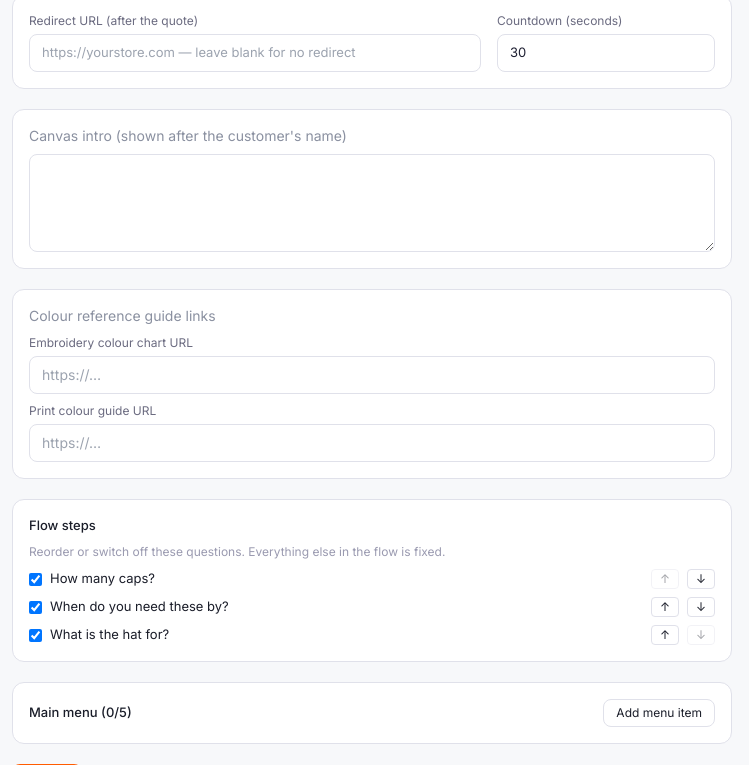
Scenario: BrandingView › blocks a 6th menu item
The width and height of the screenshot is (749, 765).
(page scrolled)
Click the button "Add menu item" at (659, 713), box [603,699,715,727]
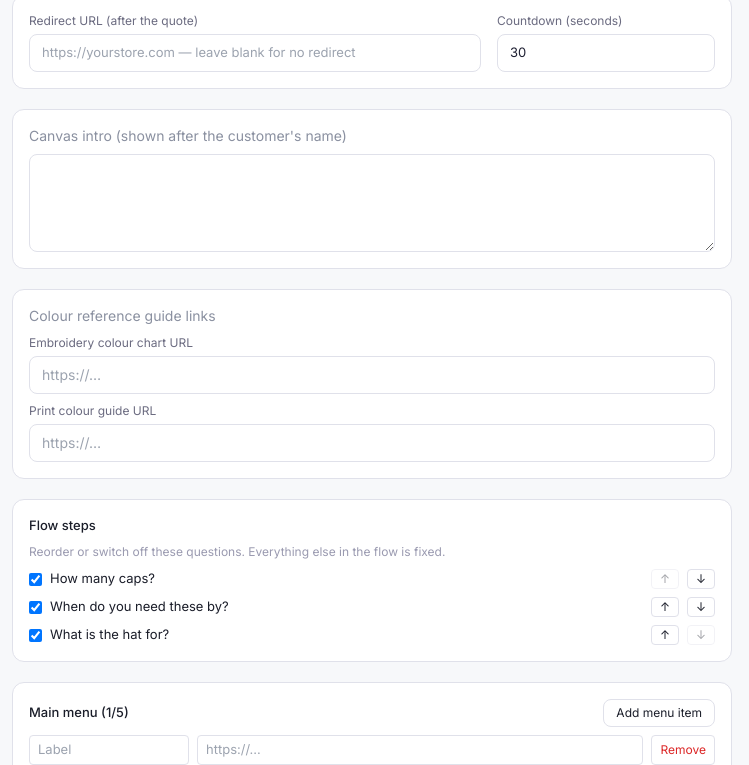
Click the button "Add menu item" at (659, 713), box [603,699,715,727]
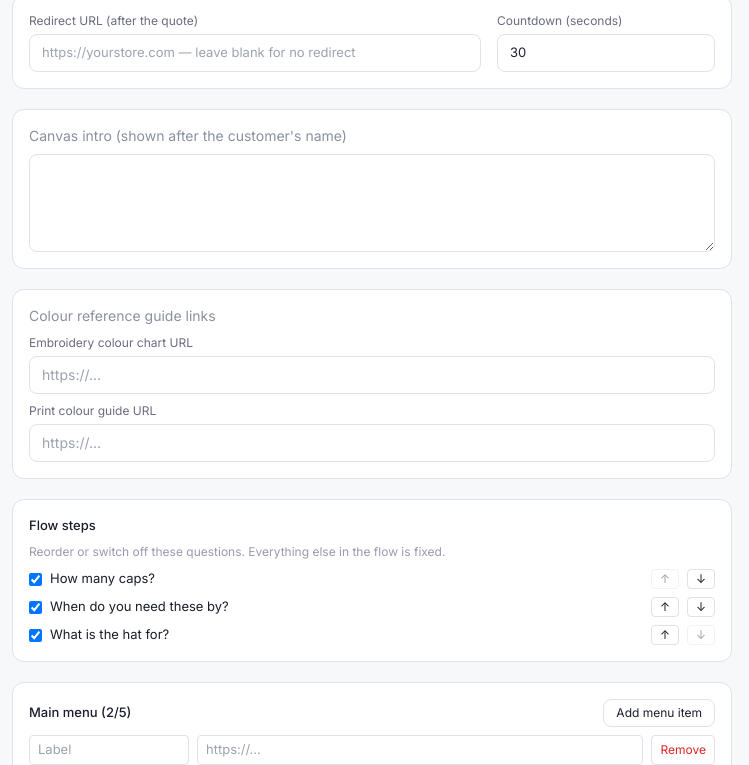
Click the button "Add menu item" at (659, 713), box [603,699,715,727]
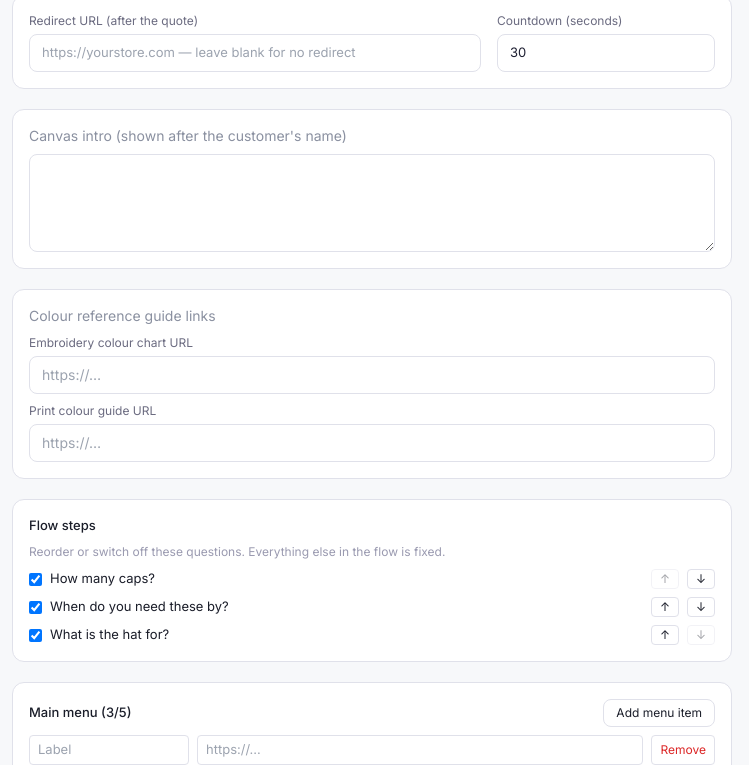
Click the button "Add menu item" at (659, 713), box [603,699,715,727]
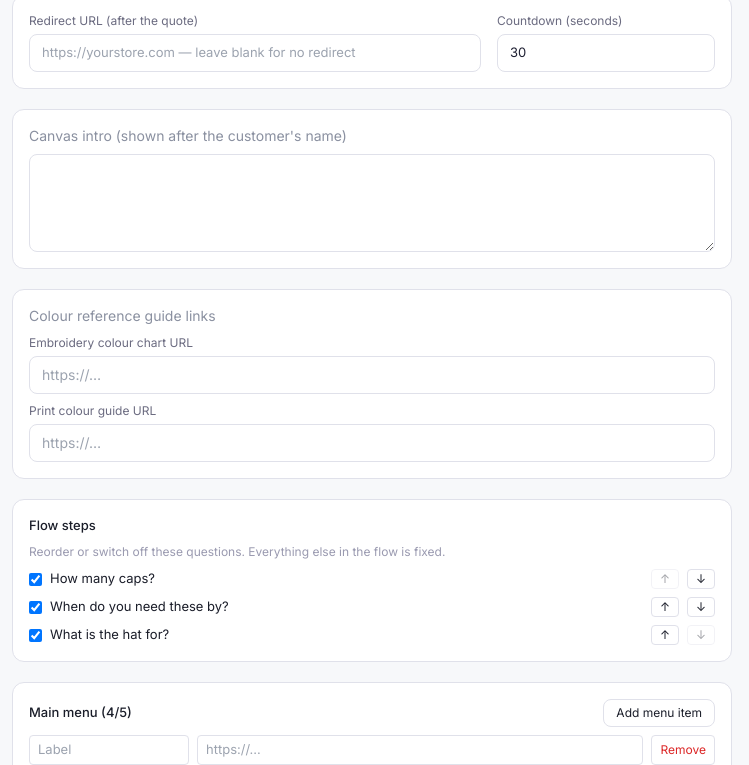
Click the button "Add menu item" at (659, 713), box [603,699,715,727]
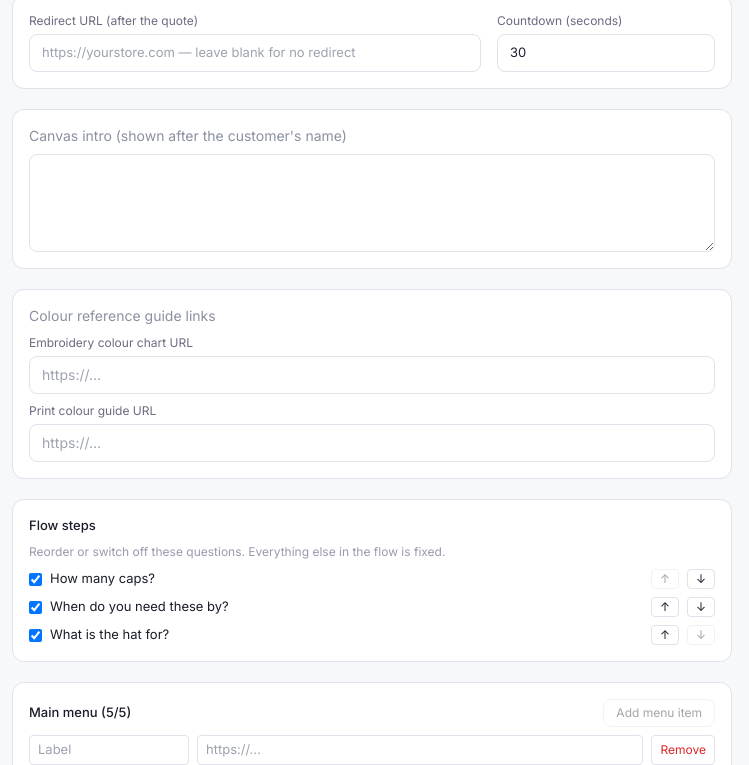
Expected: the button "Add menu item" is disabled, [603,699,715,727]
